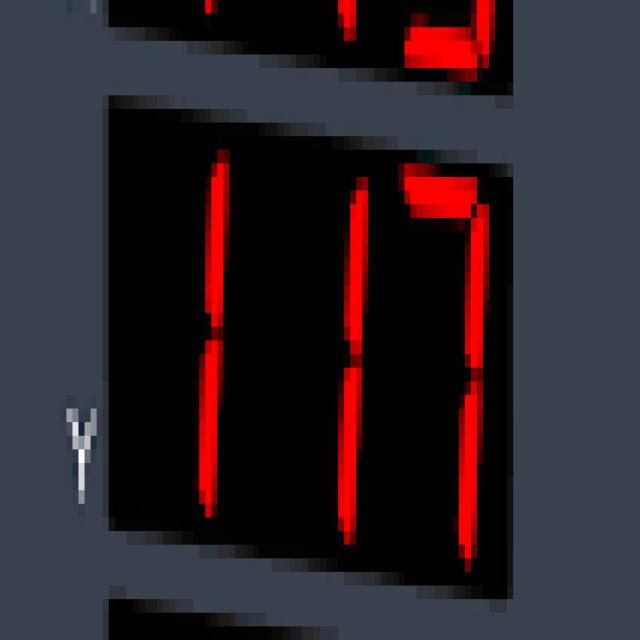1: (160, 148, 264, 574), (305, 140, 381, 560)
7: (396, 152, 509, 581)
screen: (102, 93, 519, 614)
